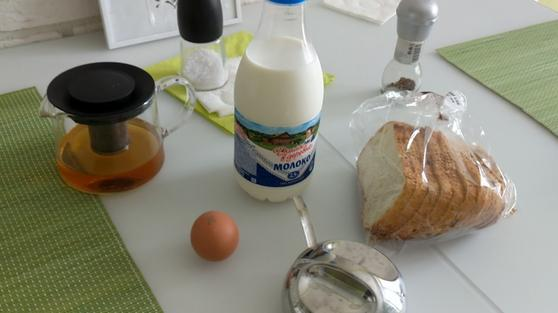egg: (187, 207, 247, 262)
milk: (223, 1, 329, 201)
white_bread: (350, 111, 518, 247)
